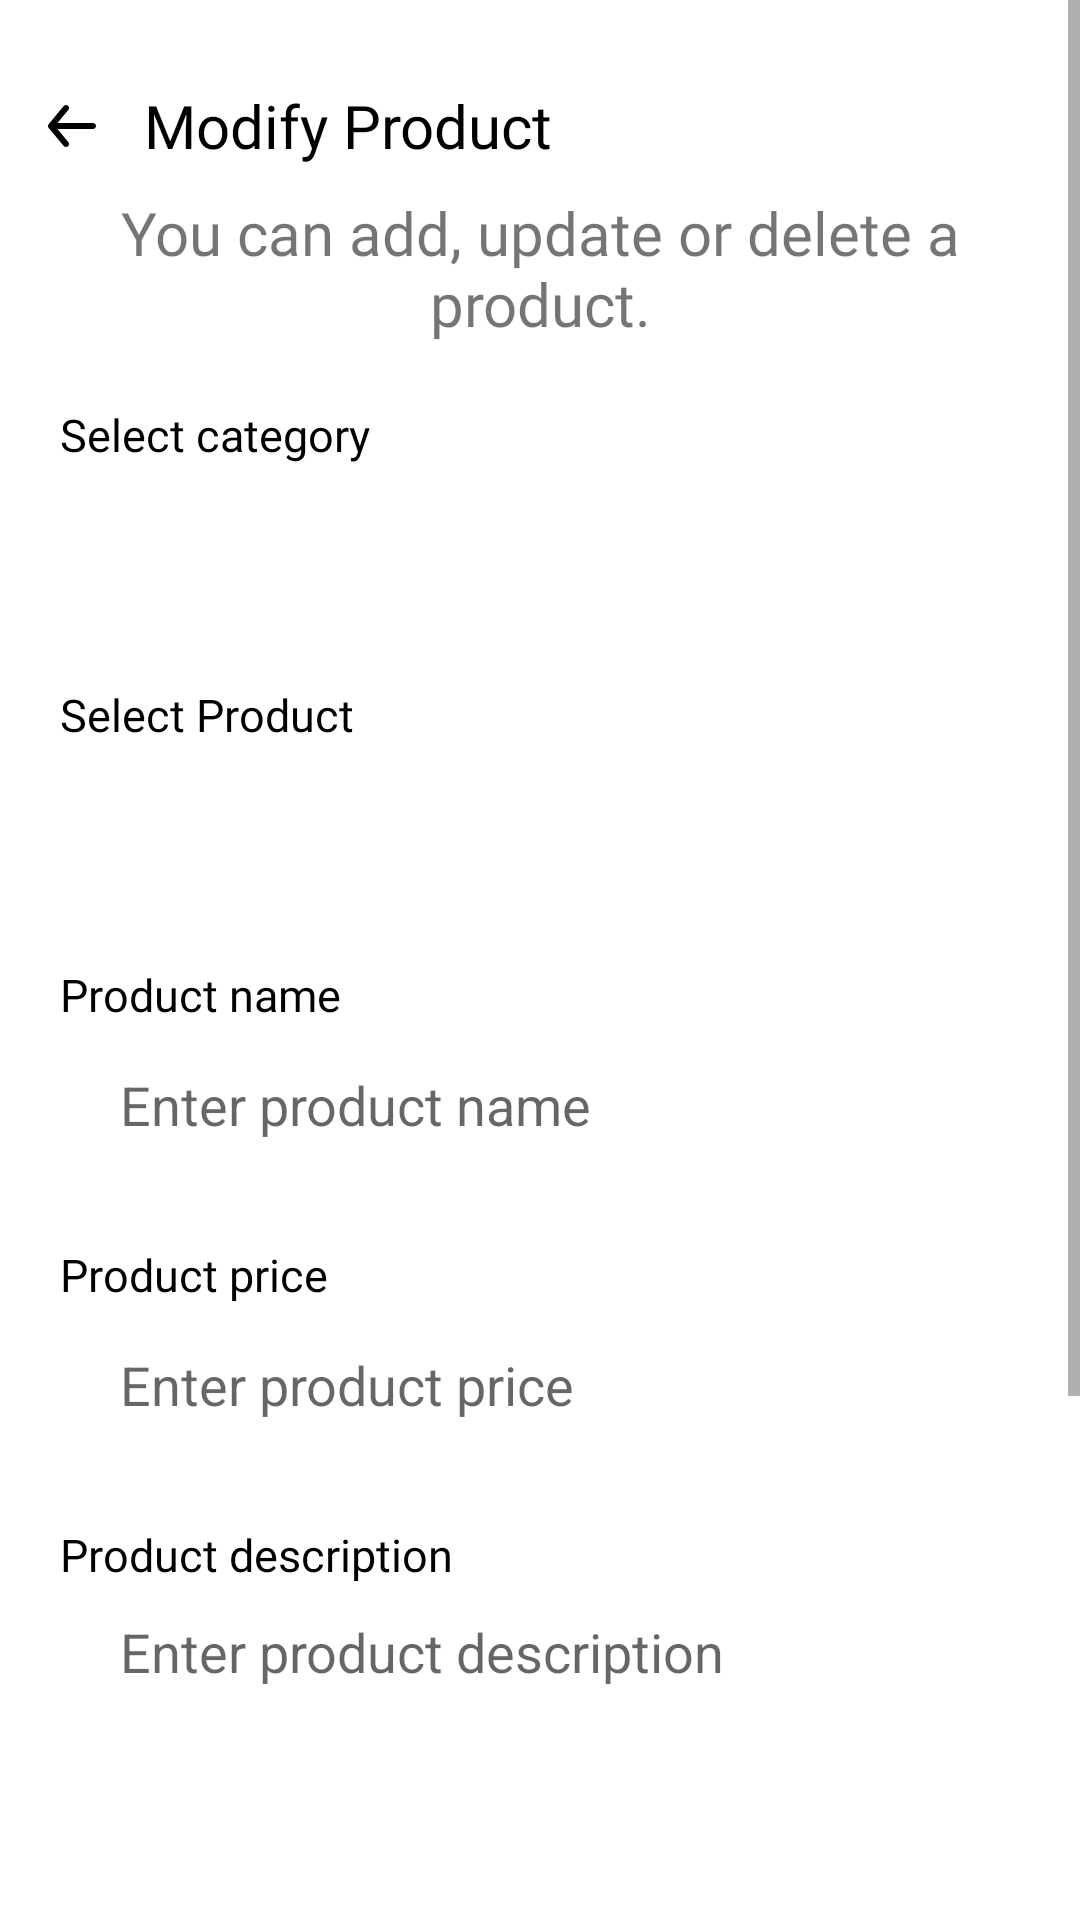

Where to tap for icons on this 1080 × 1920 app screen, as (x,y):
back: (72,126)
